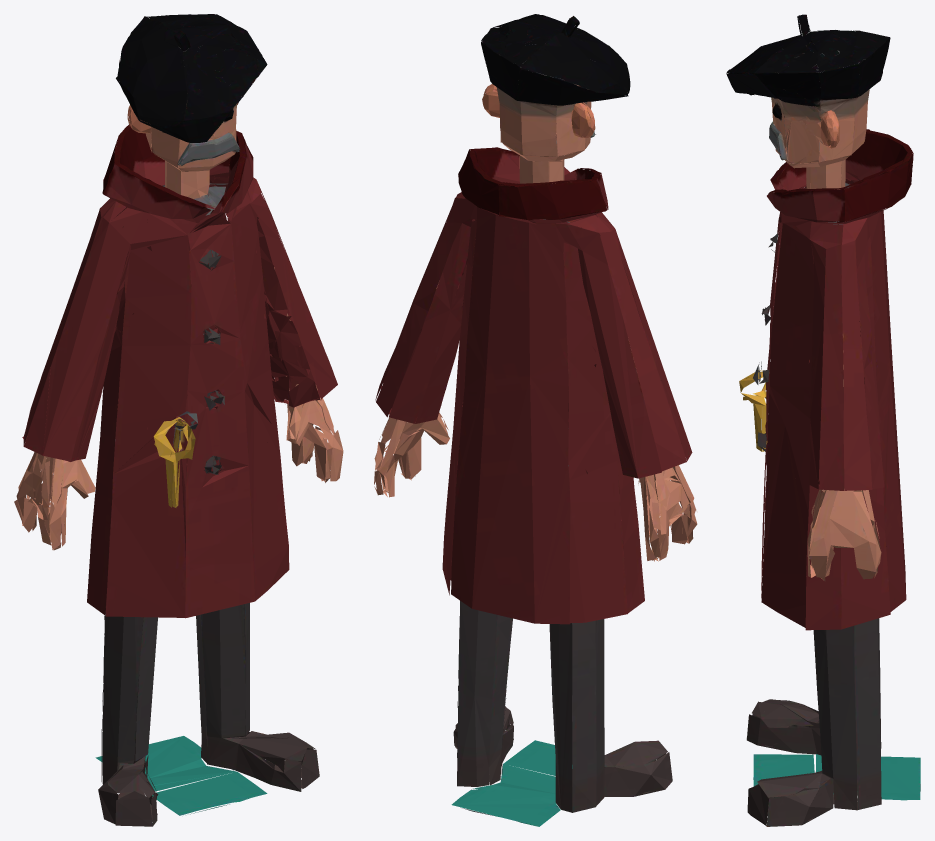
The model's file is habitant.glb.
3 renders of one model, left to right at view 1: azimuth 30°, elevation 25°; view 2: azimuth 150°, elevation 25°; view 3: azimuth 270°, elevation 25°, orthographic.
Visible parts, largest first — view 1: world; view 2: world; view 3: world.
Boxes of the visible parts, x1,y1,x2,y2 form: world: (14,14,343,826); world: (374,14,697,826); world: (726,14,920,826).
Size of the model in its own units: 0.423 by 0.999 by 0.2326.
1 material, 1 textured.
